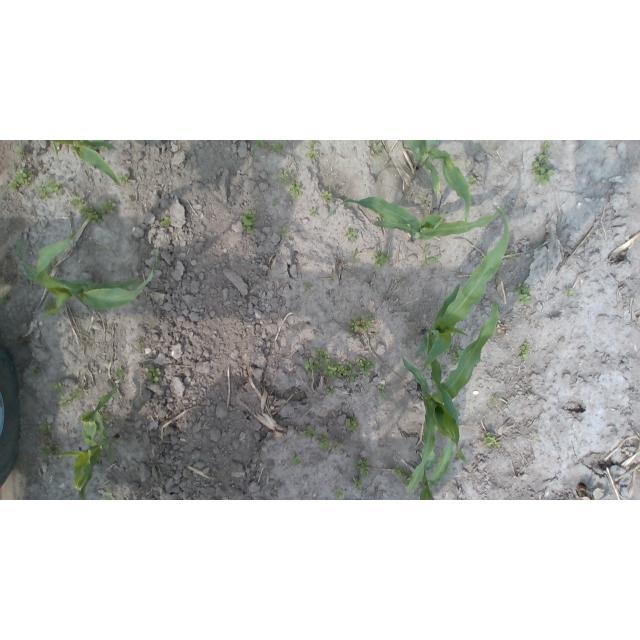Maize: (415, 203, 511, 423), (402, 300, 500, 493), (19, 235, 159, 315), (50, 385, 125, 499), (323, 195, 504, 241), (405, 140, 473, 222), (50, 140, 125, 188), (420, 470, 441, 500)
Weeds: (304, 346, 384, 399), (71, 197, 116, 221), (533, 142, 555, 186), (52, 383, 84, 406), (39, 423, 60, 457), (394, 468, 426, 489), (303, 430, 335, 451), (7, 167, 29, 193), (280, 172, 301, 197), (37, 179, 64, 197), (355, 460, 370, 490), (351, 314, 372, 334), (423, 245, 443, 263), (254, 141, 286, 151), (243, 212, 258, 233), (517, 284, 532, 305), (307, 141, 319, 159), (148, 365, 160, 383), (486, 436, 499, 452), (375, 253, 388, 268), (347, 420, 361, 433), (345, 228, 358, 242), (113, 368, 126, 381), (16, 146, 29, 158), (521, 344, 532, 358), (31, 364, 42, 374), (160, 220, 171, 228), (293, 455, 301, 466), (531, 436, 541, 444), (120, 175, 130, 183), (309, 208, 318, 216), (282, 227, 291, 233), (493, 396, 499, 405), (568, 289, 575, 296), (323, 192, 330, 199), (471, 177, 477, 184)
